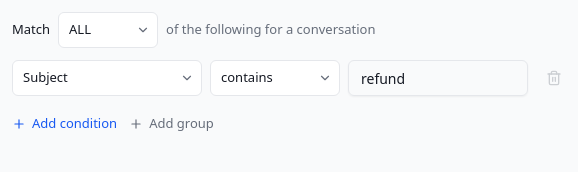
Test case: the condition builder › keeps the operator list honest when the field changes
The width and height of the screenshot is (578, 172).
Expected: the dropdown named "Condition operator" shows "contains", [210,60,340,96]
Note: "contains" is meaningless on a status, so switching fields must not strand it.
Select "Status" in the dropdown named "Condition field": (107, 78) [12,60,202,96]
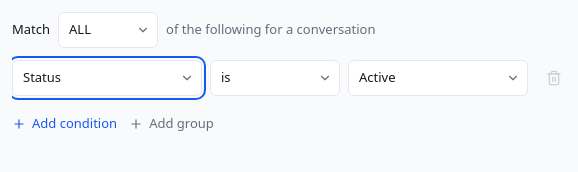
Expected: the text "contains" is not shown
Expected: the dropdown named "Condition operator" shows "is", [210,60,340,96]
